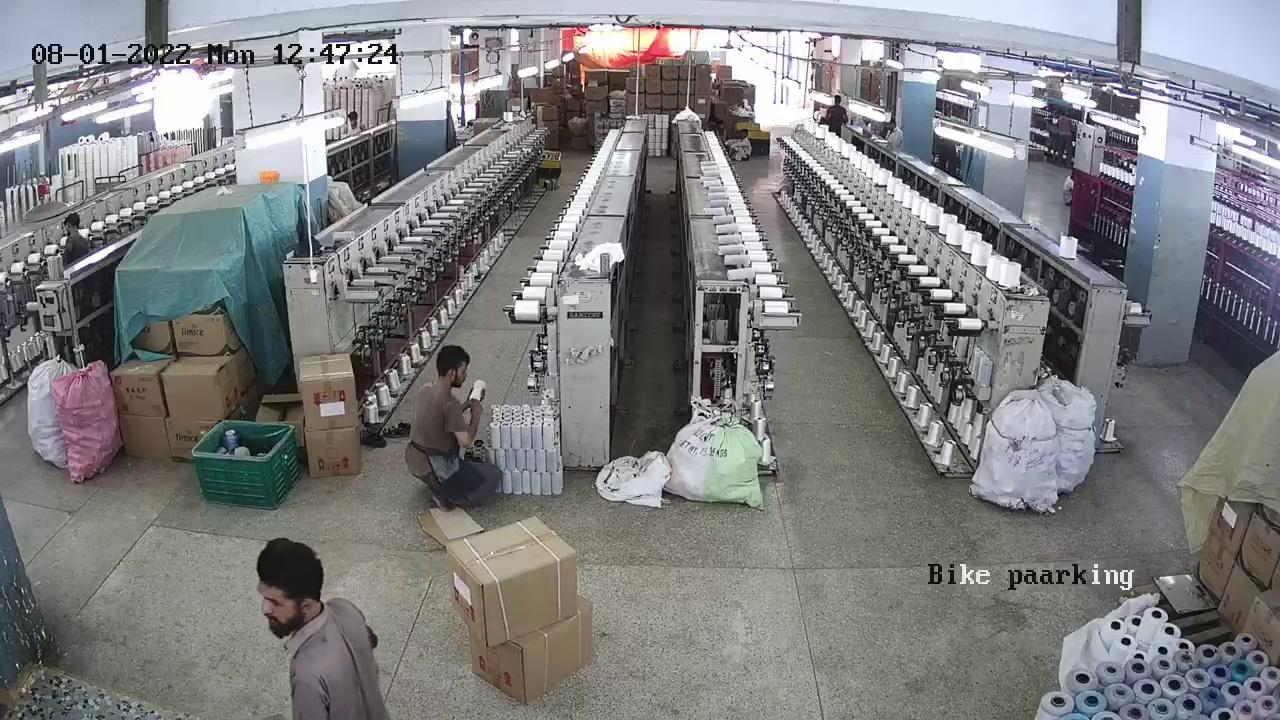person: (259, 533, 387, 720), (422, 340, 485, 493), (64, 215, 94, 257), (826, 93, 850, 132)
